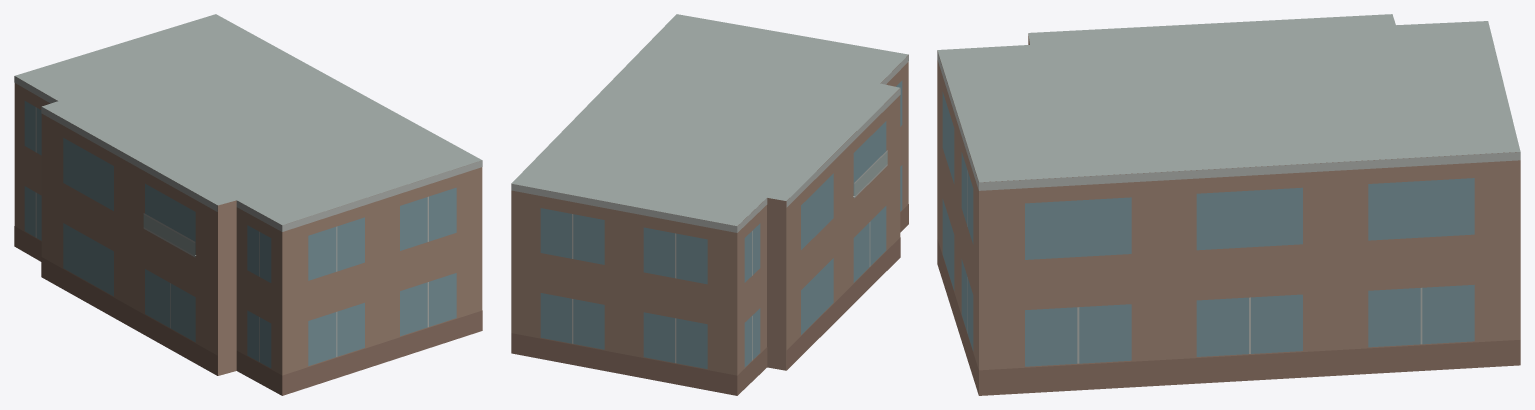
File: survey-upis-32622476.glb
The picture shows the model from 3 angles, left to right: view 1: azimuth 30°, elevation 25°; view 2: azimuth 150°, elevation 25°; view 3: azimuth 270°, elevation 25°; orthographic projection. The views are drawn at different scales.
Parts seen in each view (by area): view 1: survey-upis-32622476.tmp; view 2: survey-upis-32622476.tmp; view 3: survey-upis-32622476.tmp.
Boxes of the visible parts, x1,y1,x2,y2 form: survey-upis-32622476.tmp: (14, 14, 482, 395); survey-upis-32622476.tmp: (511, 14, 908, 395); survey-upis-32622476.tmp: (937, 14, 1520, 395).
Bounding box in the file's own units: 10.33 × 6.1 × 15.11.
